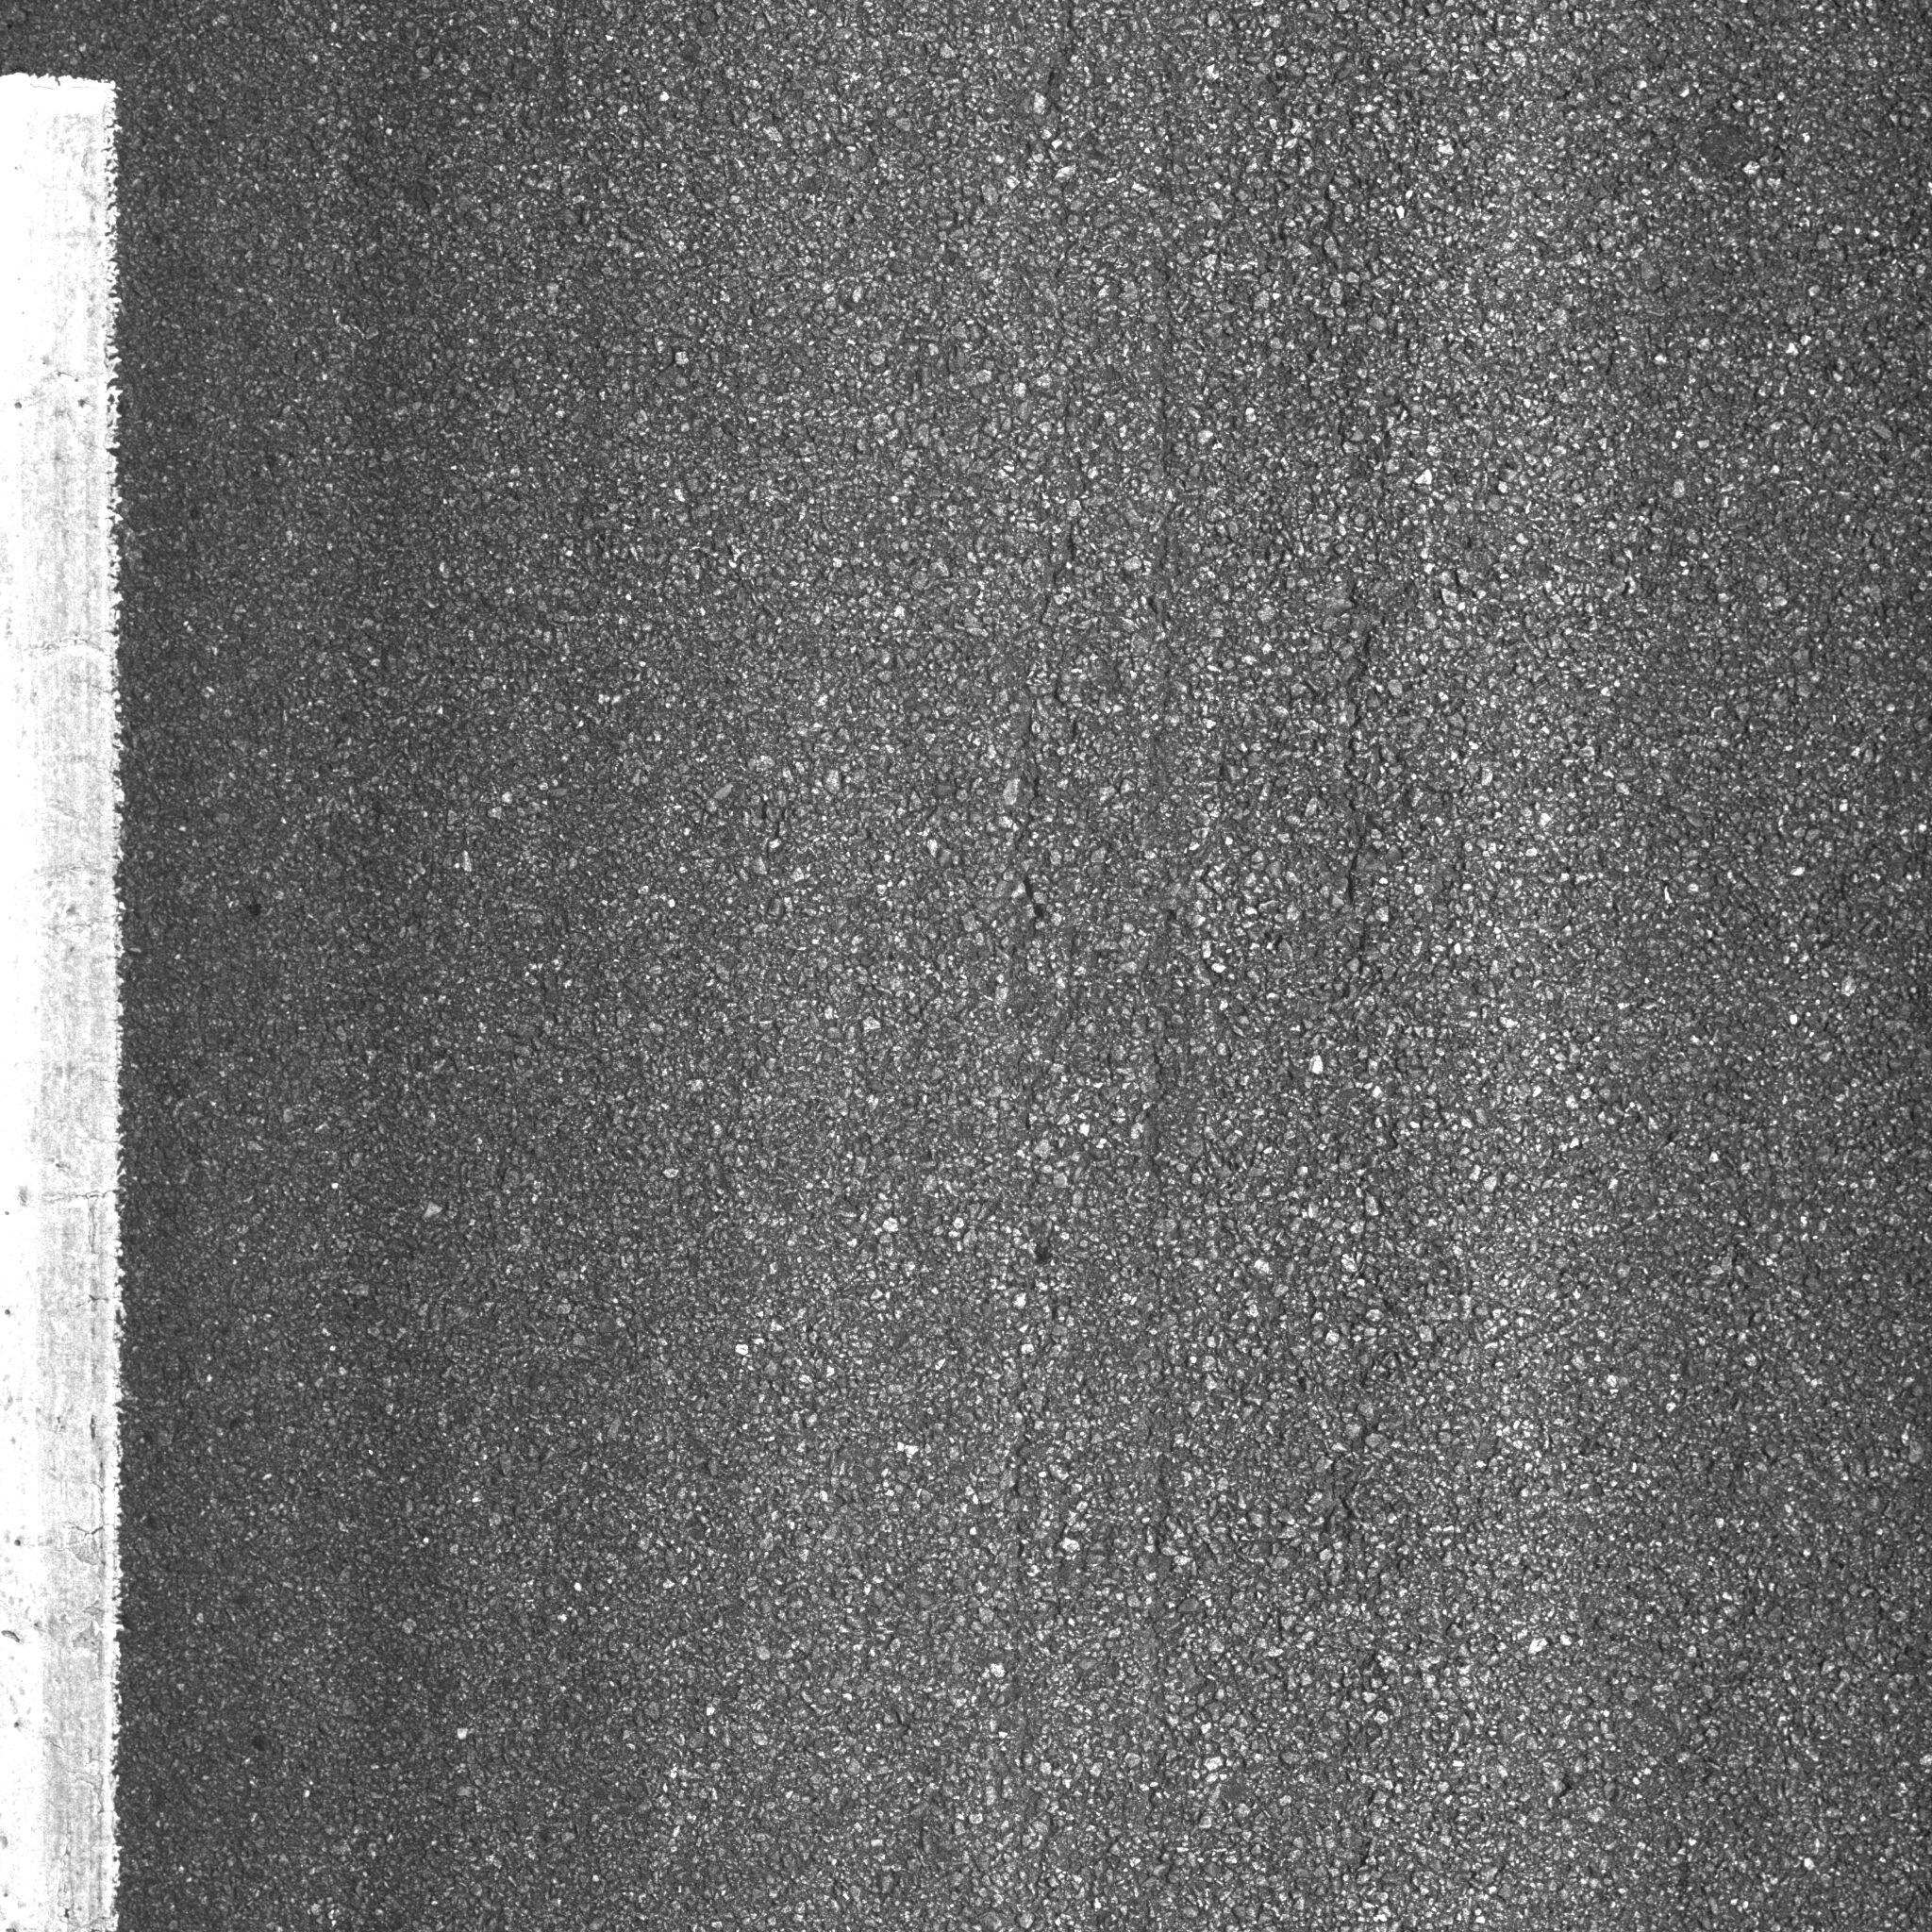longitudinal: (975, 575, 1083, 1529), (1304, 538, 1433, 1047)
